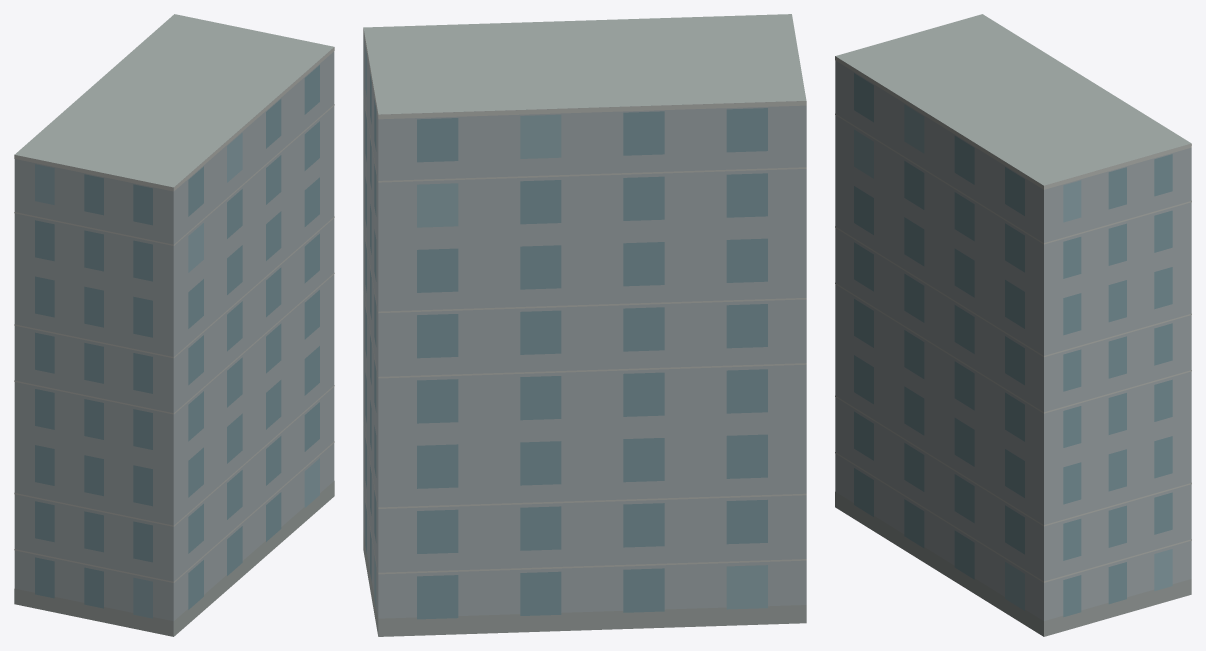
Rendered from survey-upis-32846028.glb.
3 views of the same model, side by side, from view 1: azimuth 30°, elevation 25°; view 2: azimuth 150°, elevation 25°; view 3: azimuth 270°, elevation 25° (orthographic). The views are drawn at different scales.
Parts seen in each view (by area): view 1: survey-upis-32846028.tmp; view 2: survey-upis-32846028.tmp; view 3: survey-upis-32846028.tmp.
Boxes of the visible parts, left/top/right/bottom form: survey-upis-32846028.tmp: left=14, top=14, right=334, bottom=636; survey-upis-32846028.tmp: left=363, top=14, right=806, bottom=636; survey-upis-32846028.tmp: left=835, top=14, right=1191, bottom=636.
Size of the model in its own units: 21.74 by 26.6 by 19.07.
